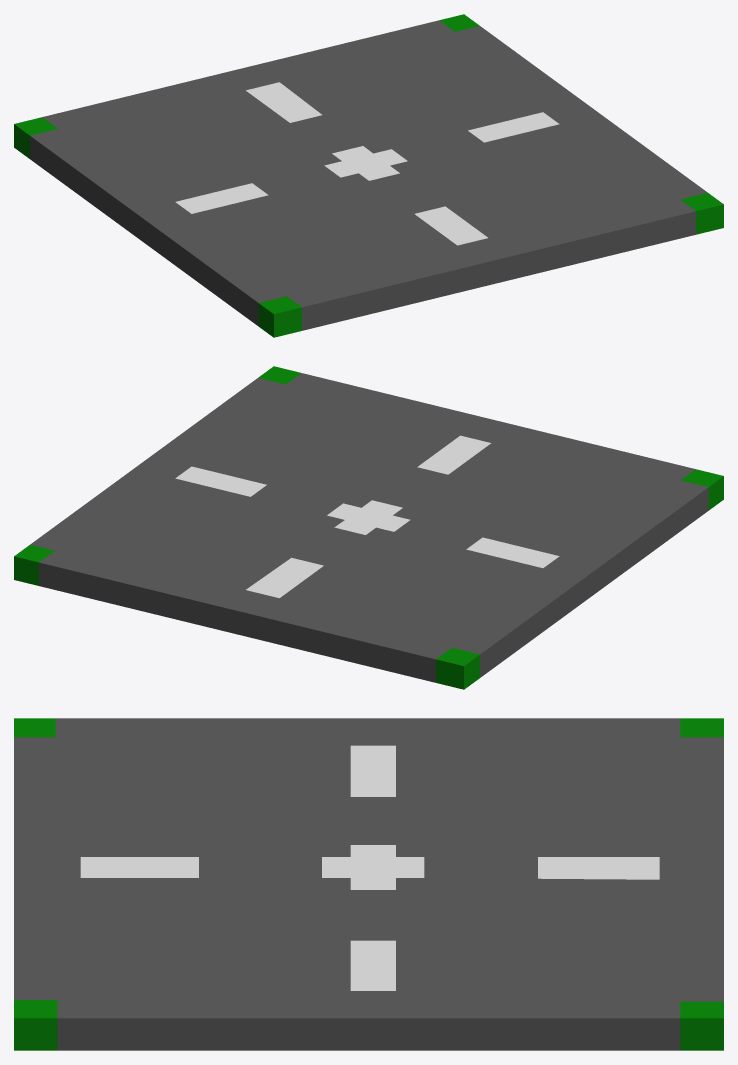
The model's file is RoadPrefabCrossing.fbx.
3 renders of one model, top to bottom at view 1: azimuth 30°, elevation 25°; view 2: azimuth 150°, elevation 25°; view 3: azimuth 270°, elevation 25°, orthographic. The views are drawn at different scales.
Parts seen in each view (by area): view 1: pCube2; view 2: pCube2; view 3: pCube2.
Boxes of the visible parts, <box> form: pCube2: <box>14,14,723,337</box>; pCube2: <box>14,366,723,689</box>; pCube2: <box>14,718,723,1050</box>.
Bounding box in the file's own units: 20 × 1 × 20.
